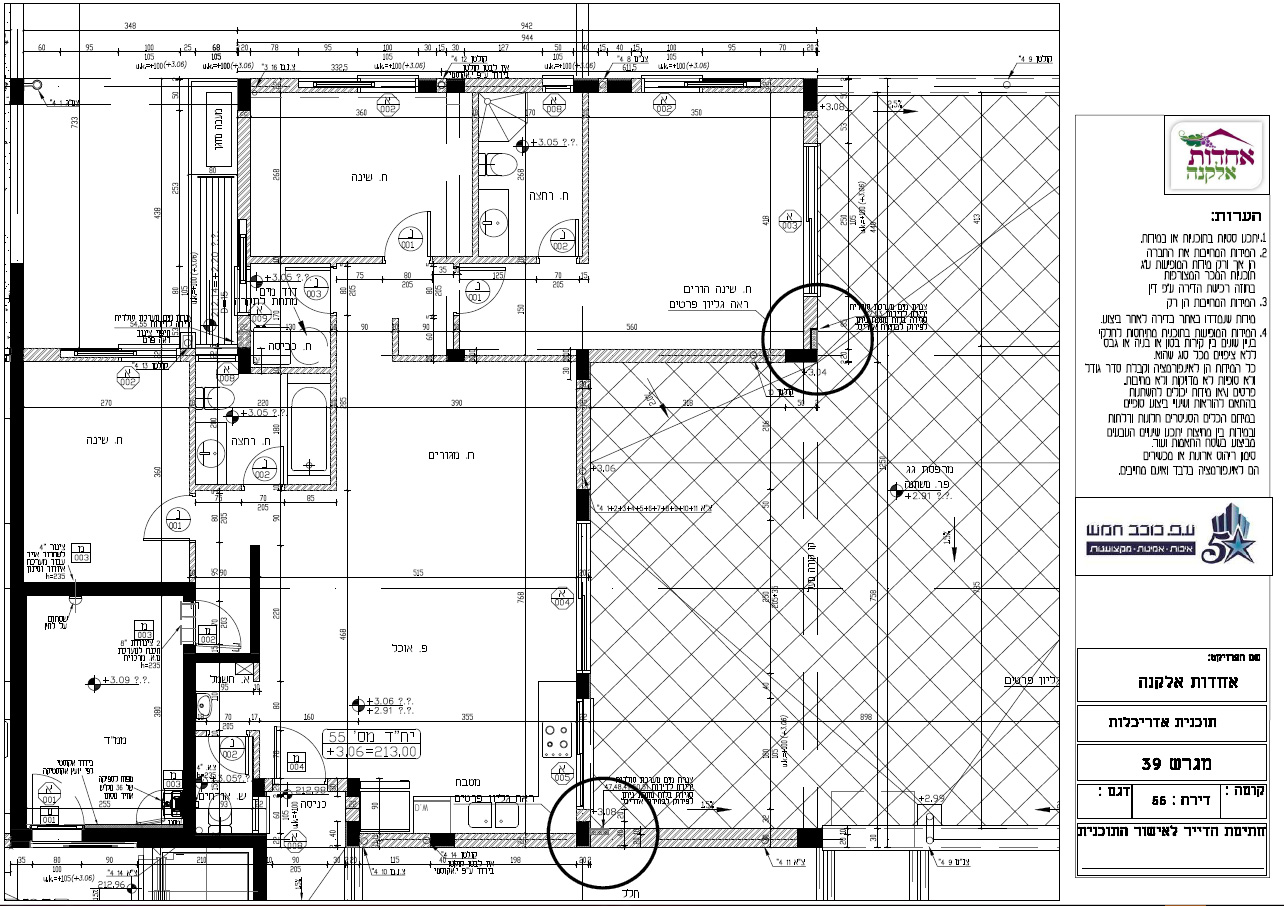wall: (10, 264, 23, 826), (23, 582, 195, 596), (184, 654, 196, 836)
window: (577, 520, 591, 673), (576, 698, 593, 810), (299, 79, 419, 93), (60, 349, 176, 362)
